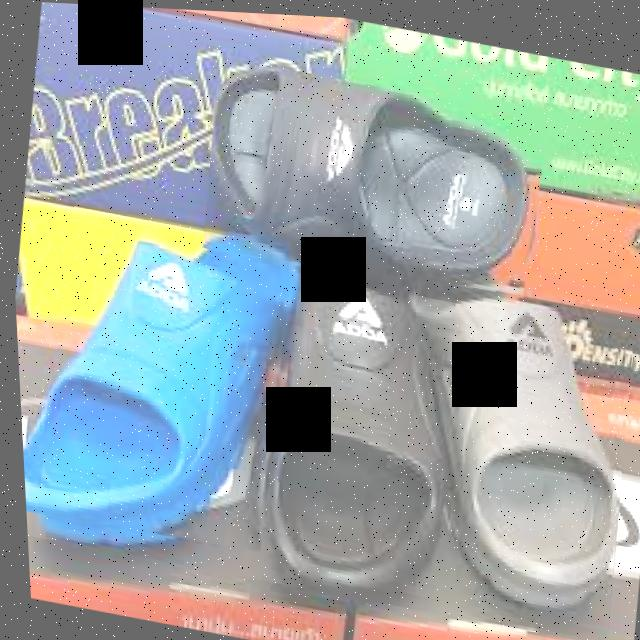shoe: (1, 24, 640, 640), (8, 198, 306, 557), (369, 272, 640, 627), (192, 53, 558, 307), (241, 259, 460, 597)
